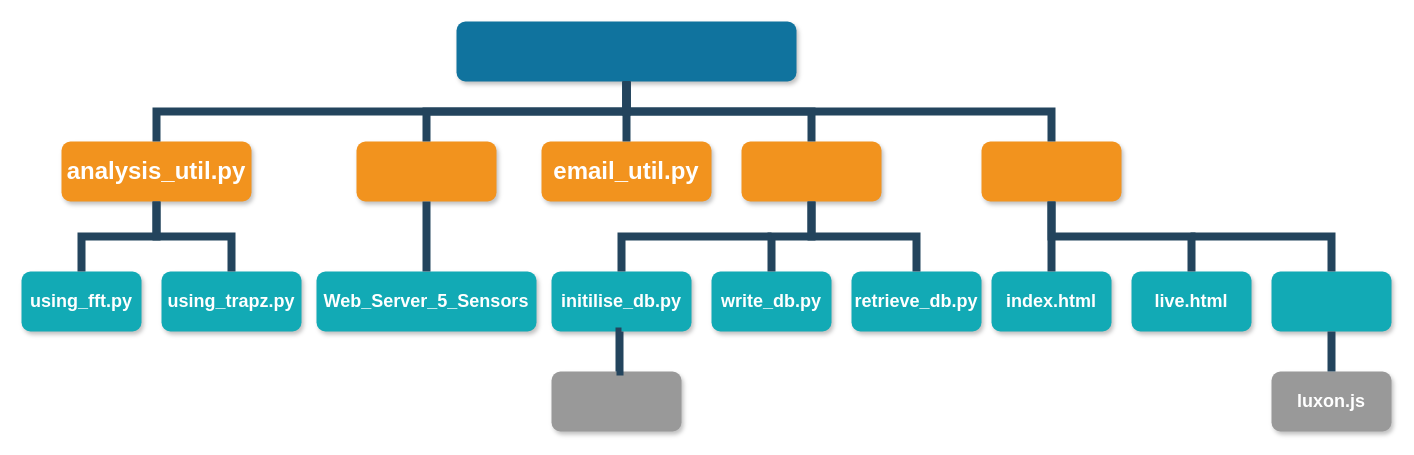
Image size: 1414x455. Some labels were removed from this diagram. The shapes that lost their labels are listed below. From the top down, each one's centre as x and y in pixels, then its label:
At point 627,52: "main.py".
At point 427,172: "data_util.py".
At point 812,172: "db_util.py".
At point 1052,172: "server".
At point 1332,302: "scripts.js".
At point 617,402: "movement_db".
